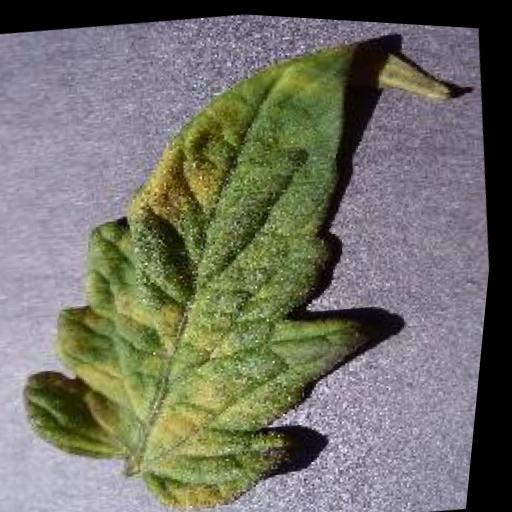Leaf Mold: (0, 19, 411, 512)
